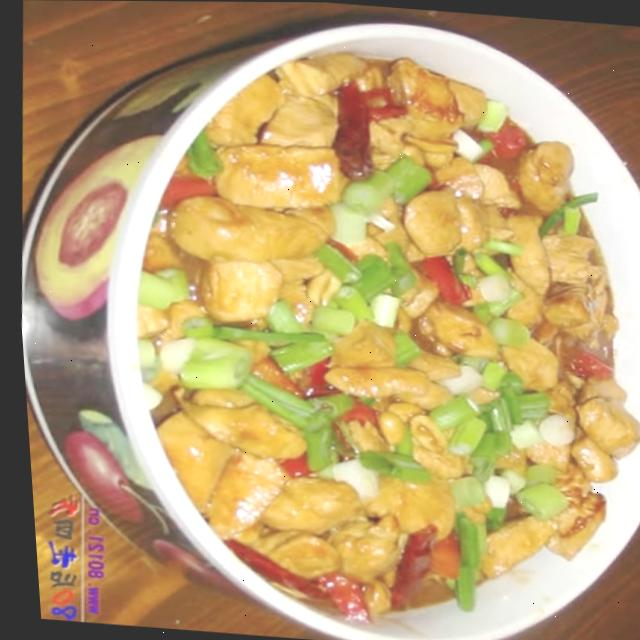鸡肉料理 含炸鸡: (74, 16, 640, 640)
